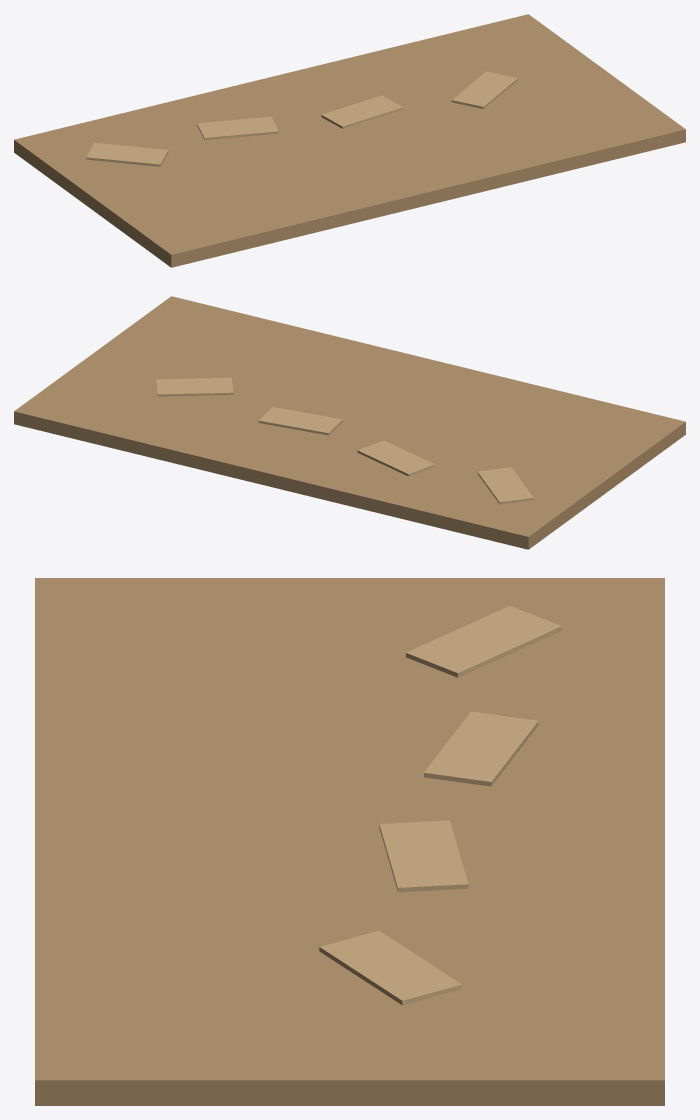
The model's file is dirt_path_straight.glb.
The picture shows the model from 3 angles, top to bottom: view 1: azimuth 30°, elevation 25°; view 2: azimuth 150°, elevation 25°; view 3: azimuth 270°, elevation 25°; orthographic projection. The views are drawn at different scales.
Parts seen in each view (by area): view 1: dirt_path_straight; view 2: dirt_path_straight; view 3: dirt_path_straight.
Part boxes in pixels (x1,y1,x2,y2): dirt_path_straight: (14, 14, 685, 267); dirt_path_straight: (14, 296, 685, 549); dirt_path_straight: (35, 578, 664, 1105).
Size of the model in its own units: 5.85 by 0.1675 by 3.1.
